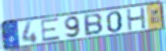0: (105, 9, 124, 33)
4: (21, 20, 39, 45)
9: (63, 15, 82, 40)
B: (83, 12, 104, 37)
E: (41, 17, 62, 43)
H: (125, 6, 147, 32)
